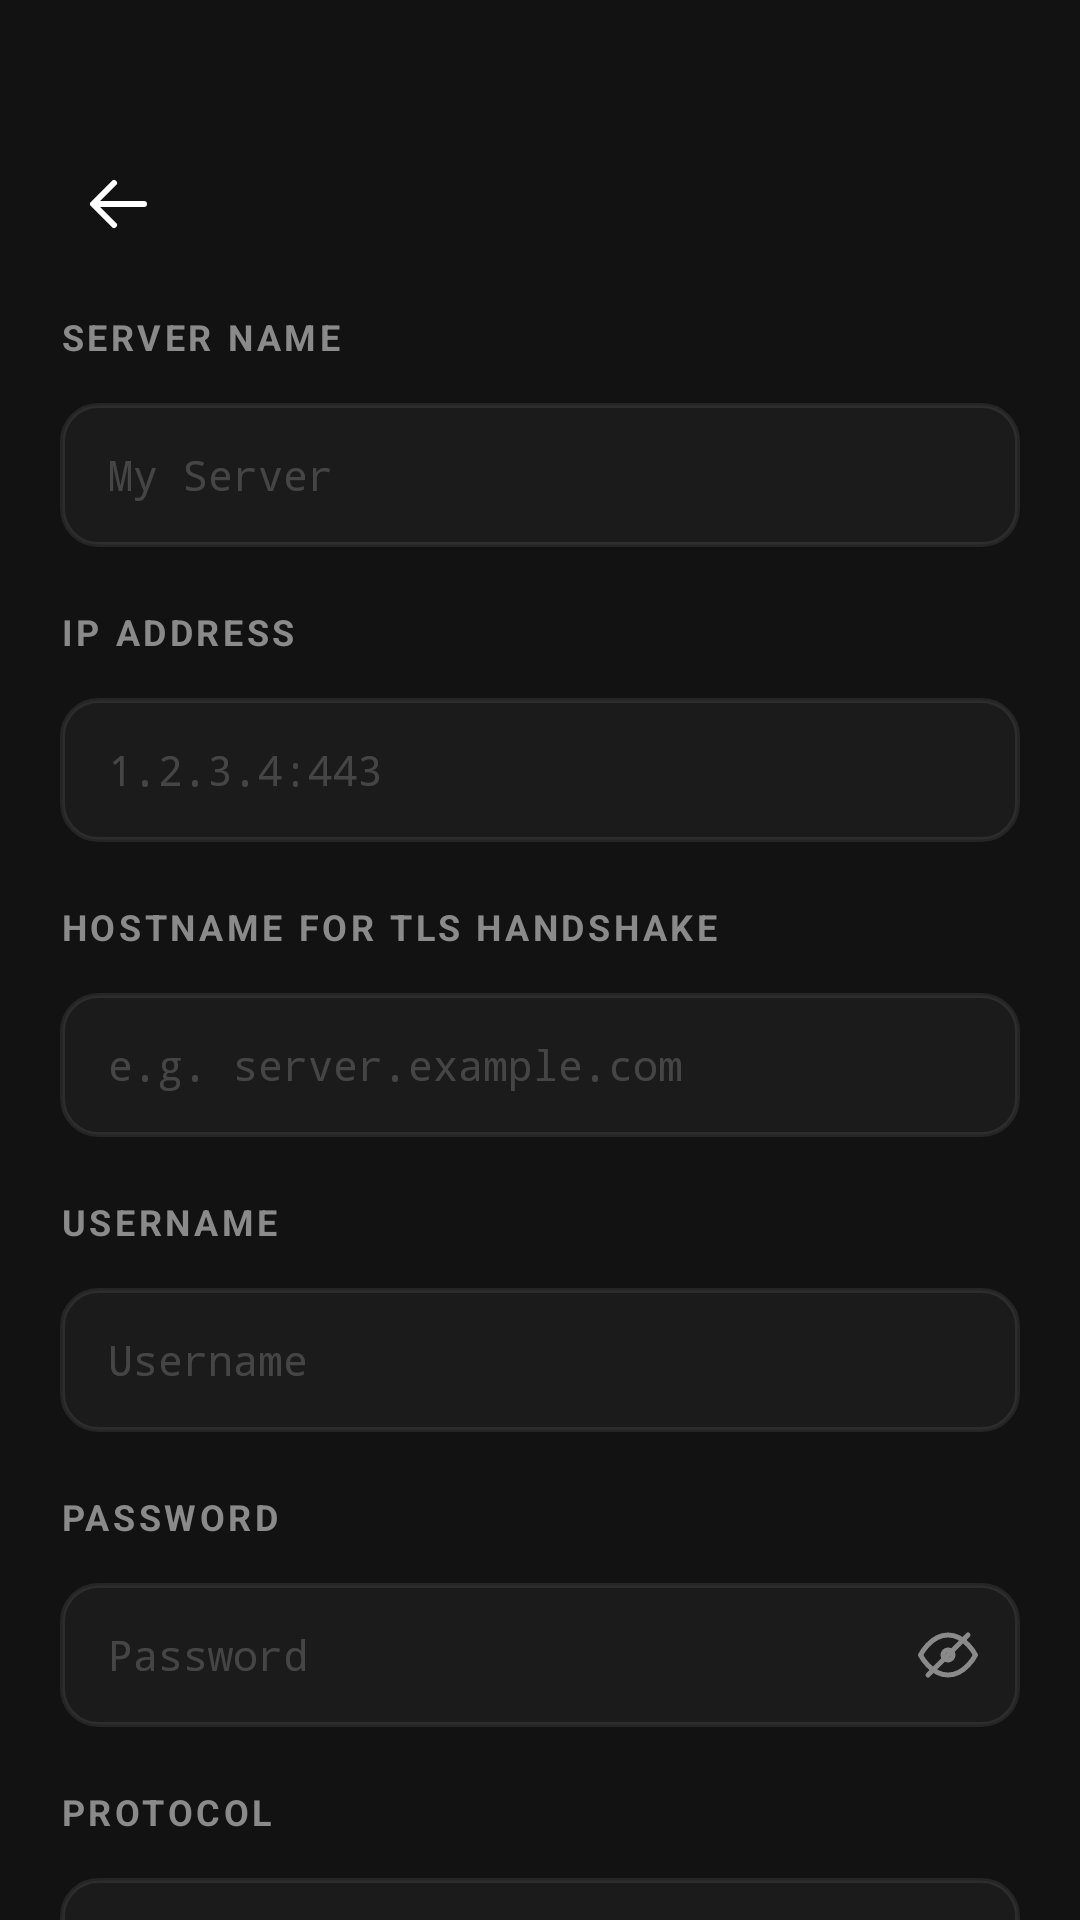

Icon bounding boxes for this 1080w x 1920h phone screenshot, format detection(x1, y1, x2, y2):
Back: detection(90, 180, 147, 228)
